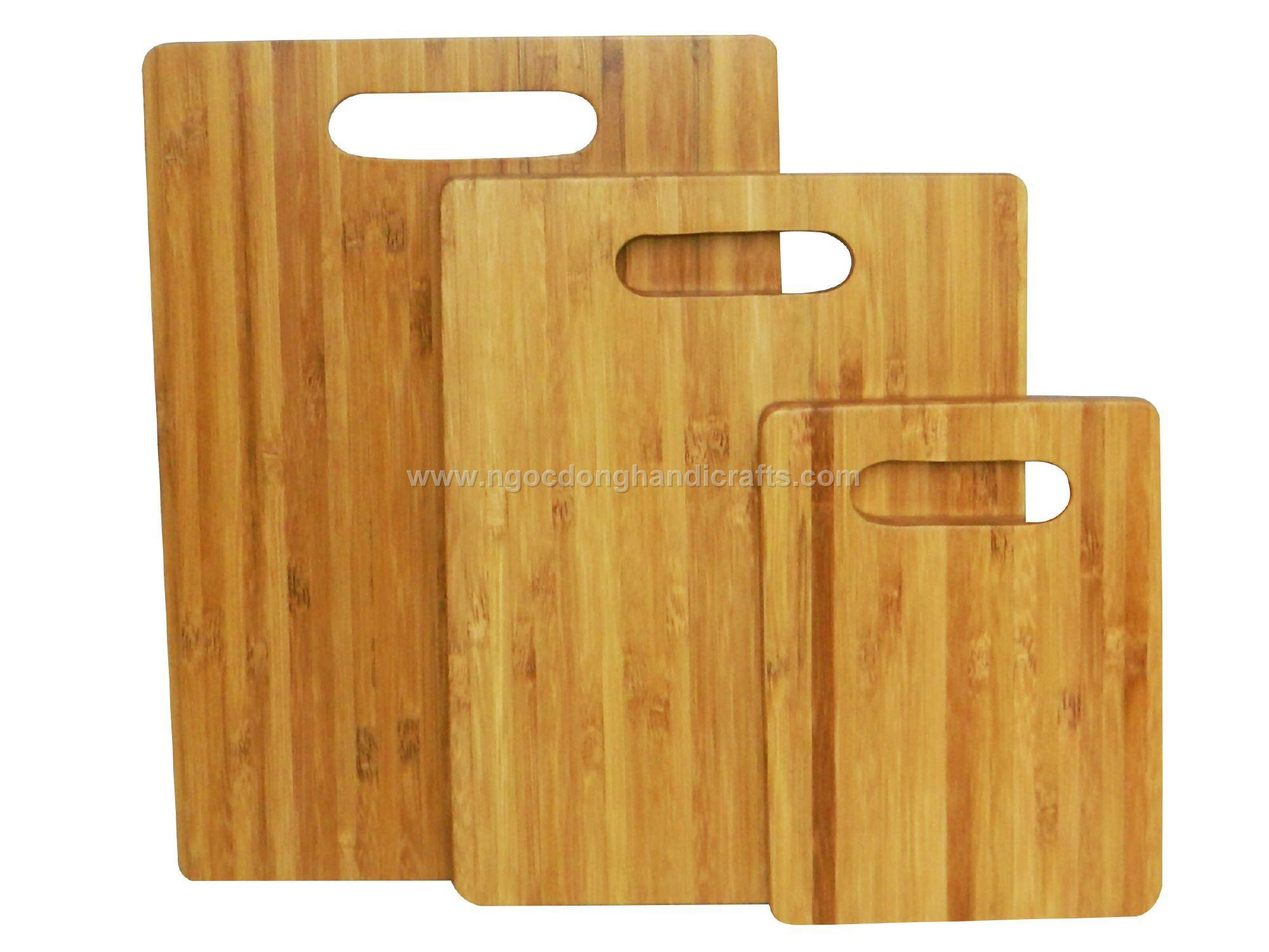gloved_hand: (754, 383, 1177, 936)
